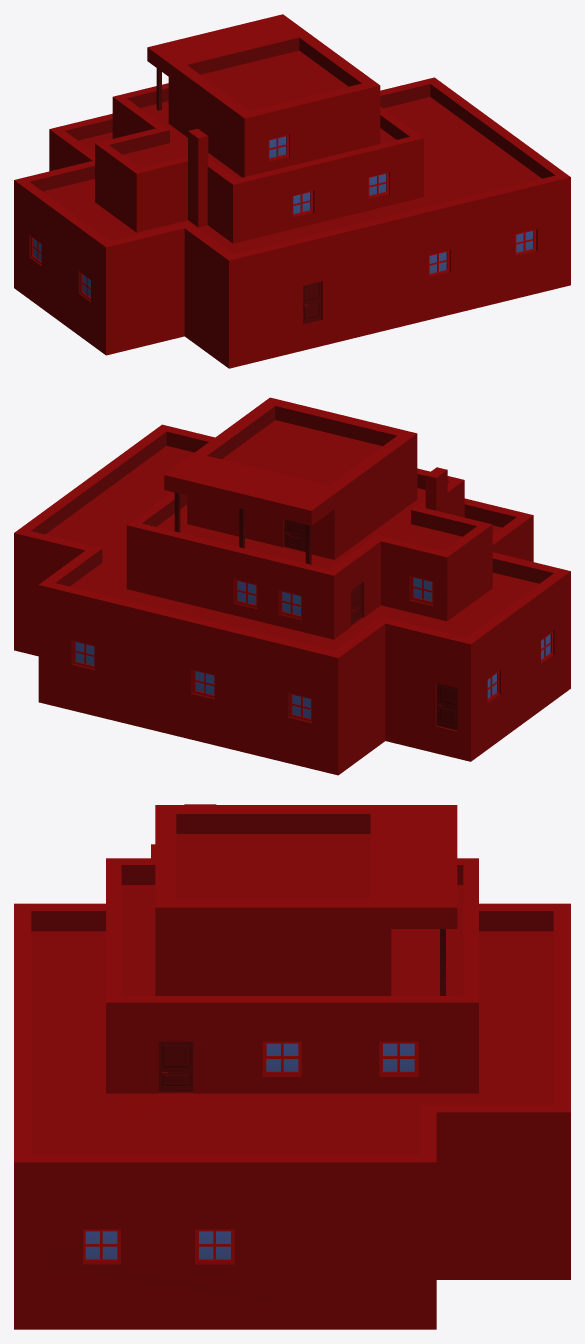
File: buildings-residential-largeadobehouse_v3.fbx
3 renders of one model, top to bottom at view 1: azimuth 30°, elevation 25°; view 2: azimuth 150°, elevation 25°; view 3: azimuth 270°, elevation 25°, orthographic. The views are drawn at different scales.
Parts seen in each view (by area): view 1: LargeAdobeHouse_v3_base, LargeAdobeHouse_v3_windowRefl; view 2: LargeAdobeHouse_v3_base, LargeAdobeHouse_v3_windowRefl; view 3: LargeAdobeHouse_v3_base, LargeAdobeHouse_v3_windowRefl.
Part boxes in pixels (left/top/right/bottom): LargeAdobeHouse_v3_base: left=14, top=14, right=570, bottom=368; LargeAdobeHouse_v3_windowRefl: left=33, top=136, right=533, bottom=297; LargeAdobeHouse_v3_base: left=14, top=397, right=570, bottom=775; LargeAdobeHouse_v3_windowRefl: left=76, top=577, right=550, bottom=718; LargeAdobeHouse_v3_base: left=14, top=804, right=570, bottom=1329; LargeAdobeHouse_v3_windowRefl: left=85, top=1043, right=414, bottom=1259.
Size of the model in its own units: 37.81 by 17.33 by 27.98.
